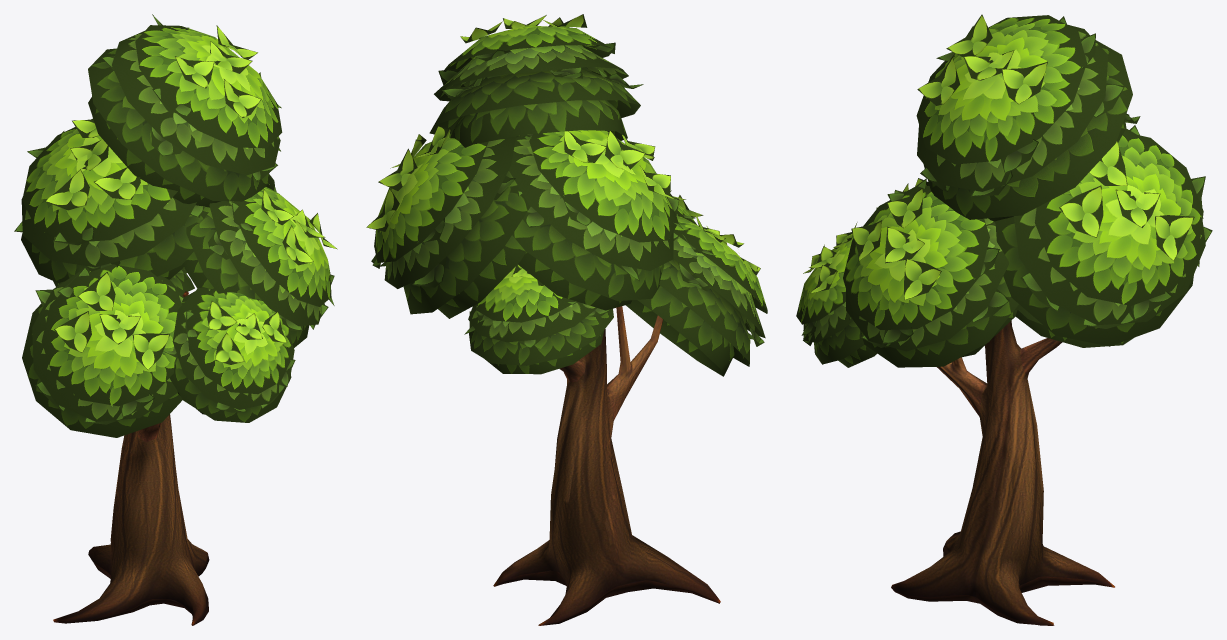
File: tree002.fbx
3 views of the same model, side by side, from view 1: azimuth 30°, elevation 25°; view 2: azimuth 150°, elevation 25°; view 3: azimuth 270°, elevation 25° (orthographic). The views are drawn at different scales.
Parts seen in each view (by area): view 1: Tree02; view 2: Tree02; view 3: Tree02.
Part boxes in pixels (box(x1,y1,x2,y2)): Tree02: box(14, 14, 337, 625); Tree02: box(366, 14, 767, 625); Tree02: box(796, 14, 1212, 625).
Bounding box in the file's own units: 1033 × 1800 × 1157.
